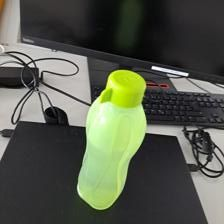bottle: (75, 68, 147, 211)
